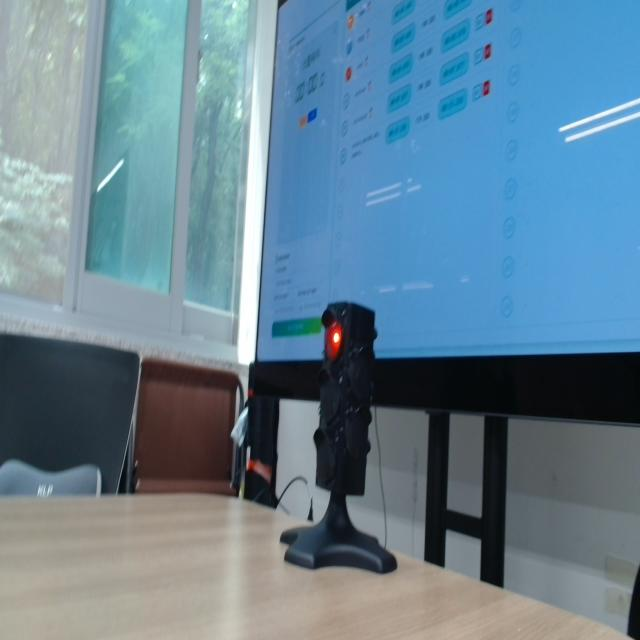red_light: (325, 322, 342, 362)
